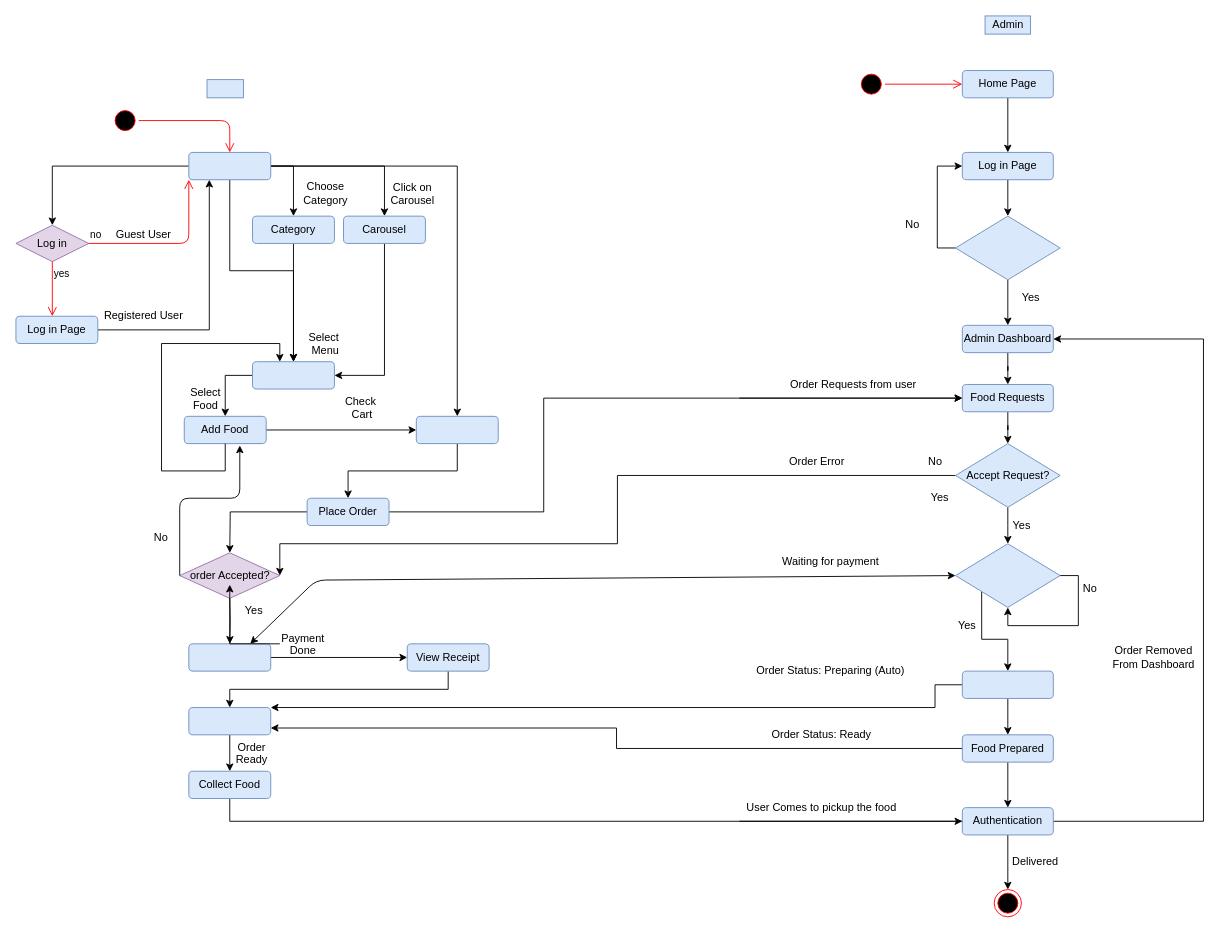
Image size: 1227x933. Some labels were removed from this diagram. The box of each missing label's shape, as (x1, y1, x2, y2) in pixels:
Check Order Status: (188, 707, 271, 735)
Correct Credintials?: (955, 215, 1060, 280)
Home: (188, 152, 271, 180)
Menu: (252, 361, 334, 389)
Payment Page: (188, 643, 271, 671)
Payment Recieved??: (955, 543, 1060, 607)
Start Preparing Food: (961, 670, 1053, 698)
User: (206, 79, 243, 98)
View Cart: (415, 415, 498, 444)
